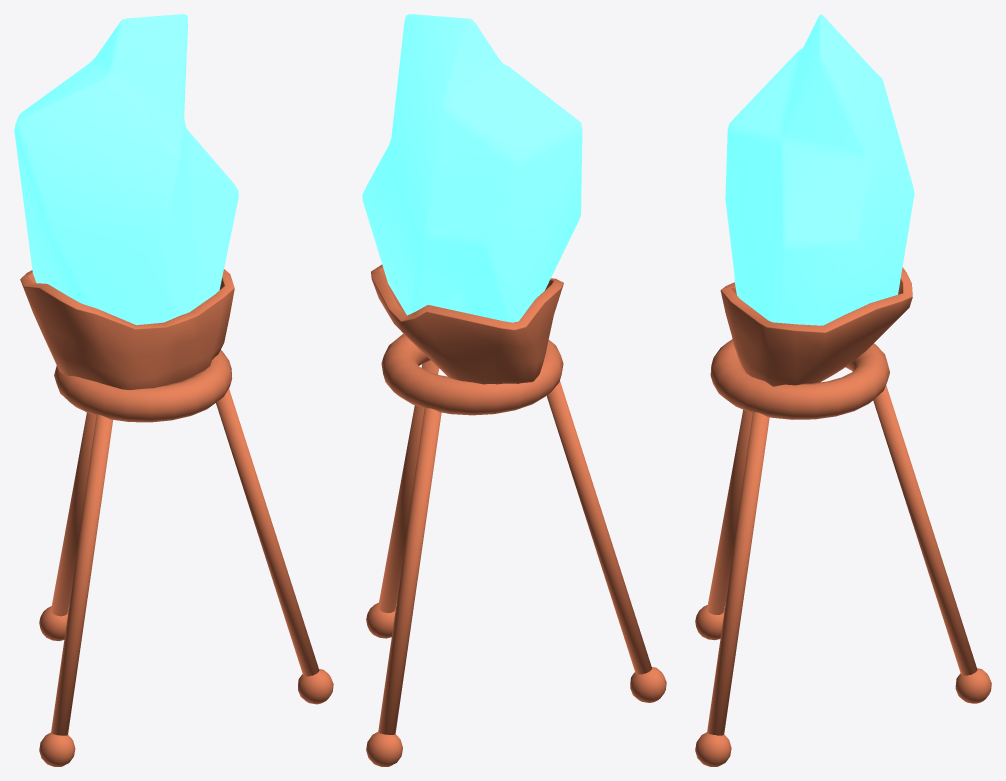
Rendered from TeleportCrystal and Heart.fbx.
3 renders of one model, left to right at view 1: azimuth 30°, elevation 25°; view 2: azimuth 150°, elevation 25°; view 3: azimuth 270°, elevation 25°, orthographic. The views are drawn at different scales.
Parts seen in each view (by area): view 1: Icosphere, Cylinder, Sphere, Torus; view 2: Icosphere, Cylinder, Sphere, Torus; view 3: Icosphere, Cylinder, Sphere, Torus.
Boxes of the visible parts, <box> form: Icosphere: <box>14,14,238,325</box>; Cylinder: <box>39,388,333,766</box>; Sphere: <box>20,269,234,389</box>; Torus: <box>54,350,232,422</box>; Icosphere: <box>362,14,582,322</box>; Cylinder: <box>366,360,666,766</box>; Sphere: <box>371,264,563,384</box>; Torus: <box>381,334,563,415</box>; Icosphere: <box>725,14,914,325</box>; Cylinder: <box>695,385,991,766</box>; Sphere: <box>720,267,912,386</box>; Torus: <box>710,339,889,419</box>.
Bounding box in the file's own units: 351 × 785 × 309.
